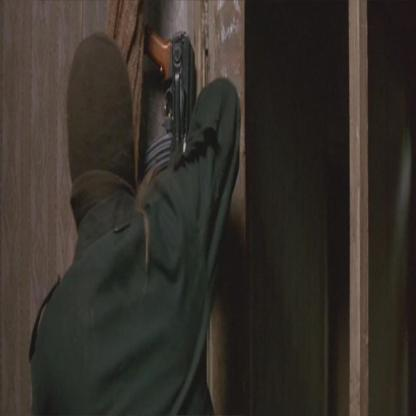gun: (139, 17, 196, 171)
